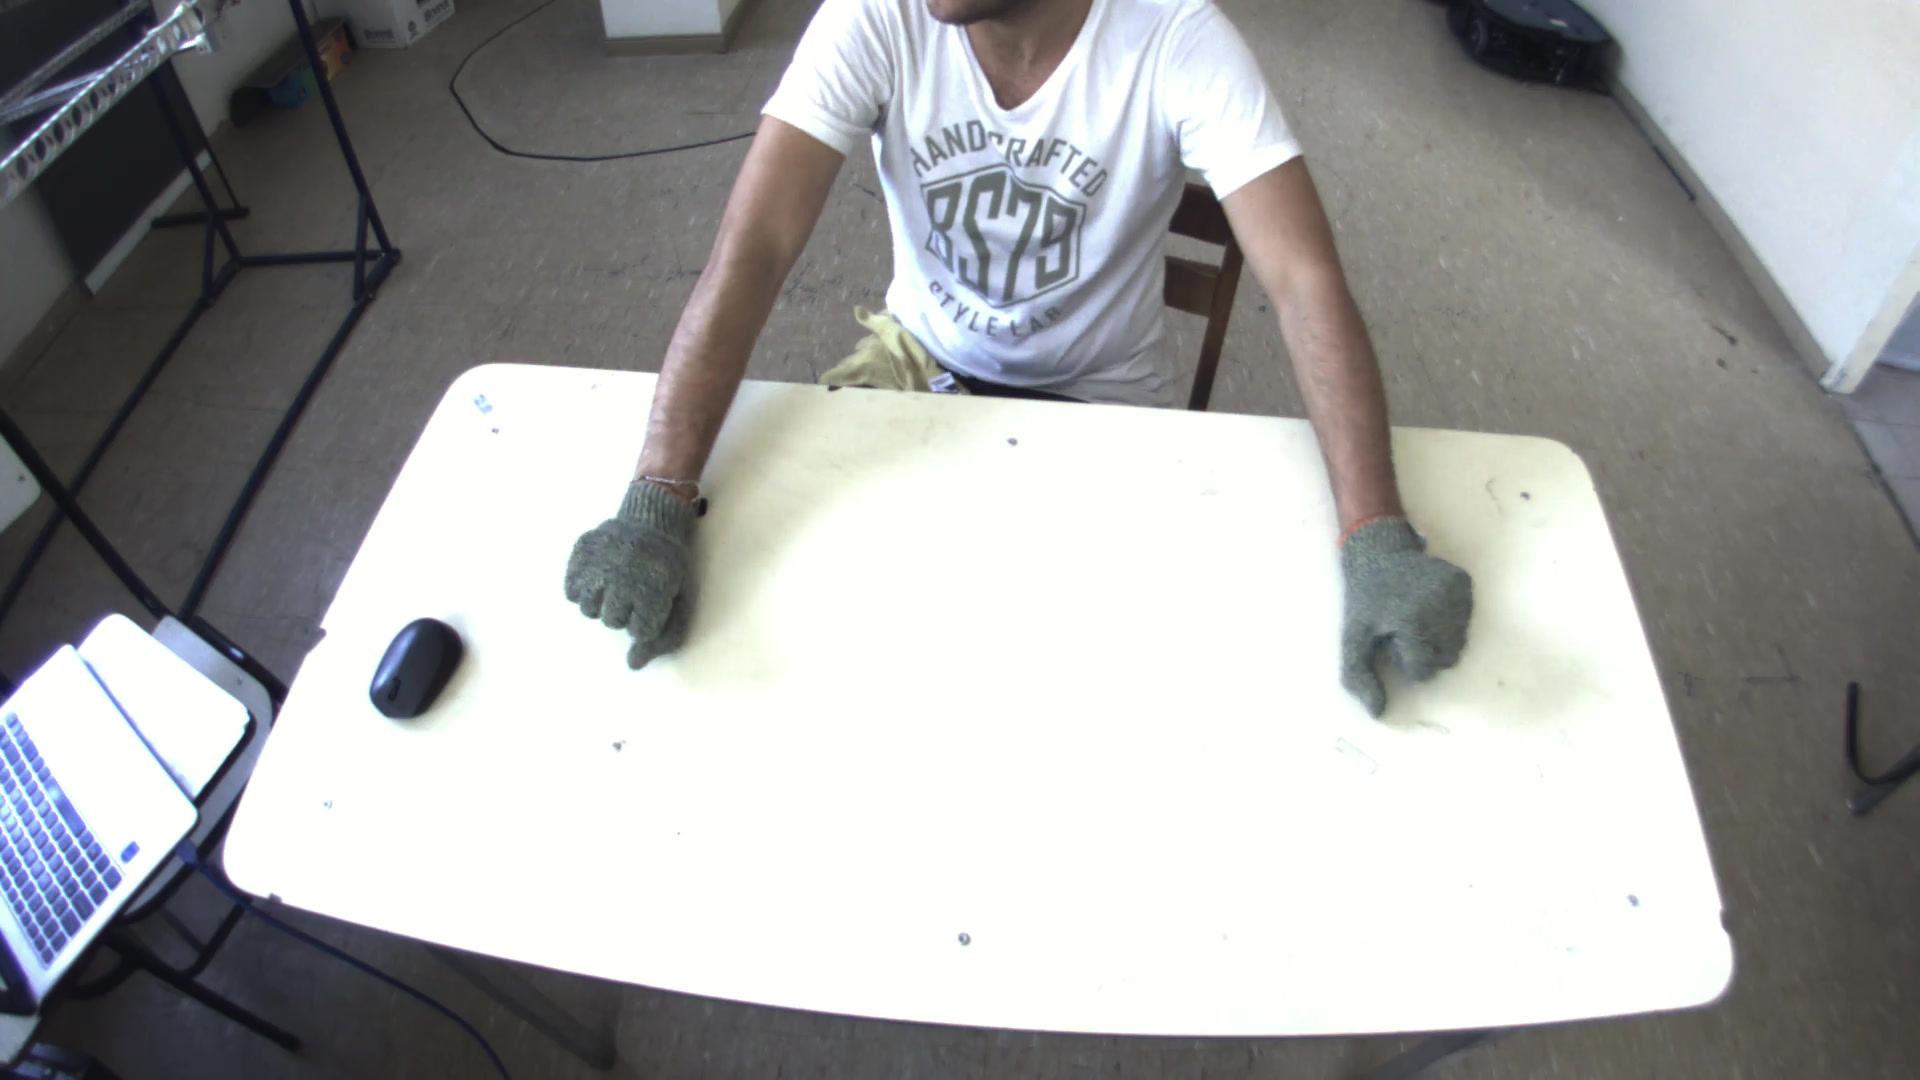hand: (553, 469, 713, 659), (1335, 510, 1487, 702)
